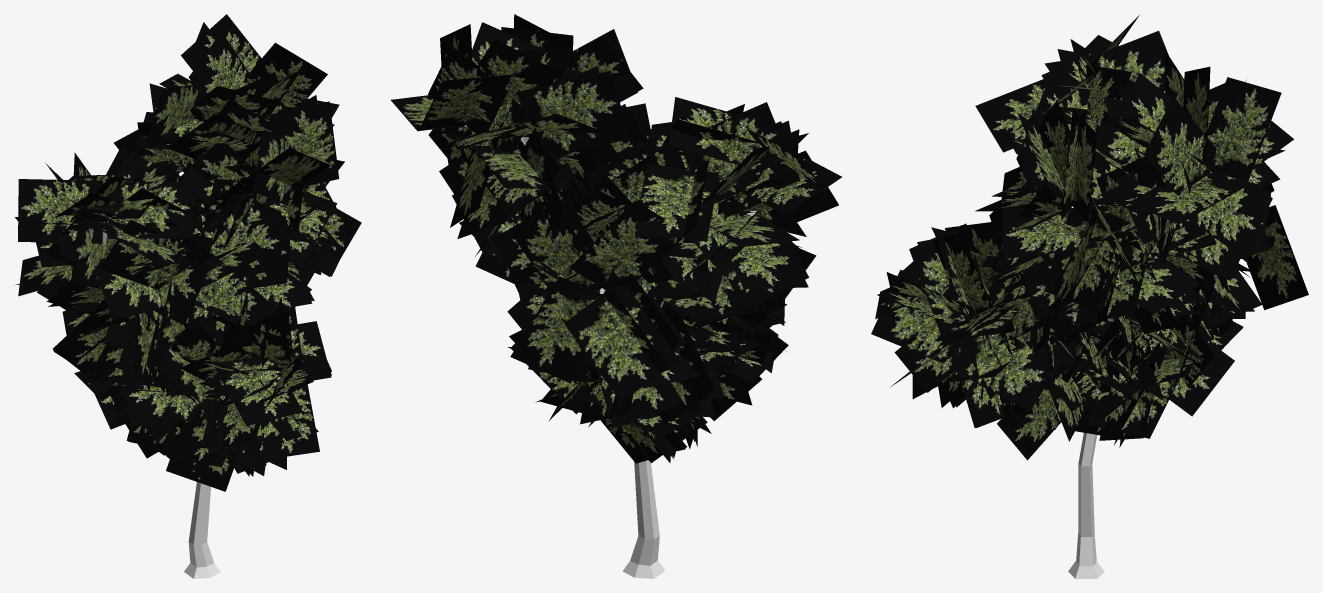
Rendered from PUU TESTI.fbx.
3 renders of one model, left to right at view 1: azimuth 30°, elevation 25°; view 2: azimuth 150°, elevation 25°; view 3: azimuth 270°, elevation 25°, orthographic. The views are drawn at different scales.
Visible parts, largest first — view 1: Puu; view 2: Puu; view 3: Puu.
Part boxes in pixels (x1,y1,x2,y2): Puu: [15, 14, 361, 578]; Puu: [391, 14, 841, 578]; Puu: [871, 15, 1308, 578].
Size of the model in its own units: 921 by 1195 by 868.
